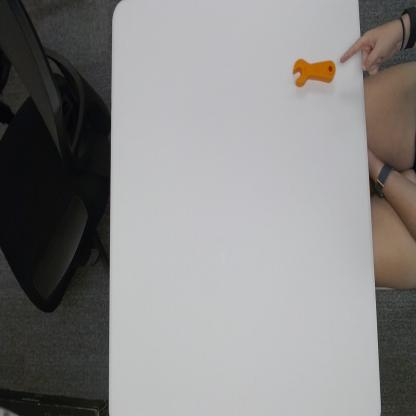Hand: (342, 13, 401, 74)
Screwdriver: (292, 53, 338, 90)
